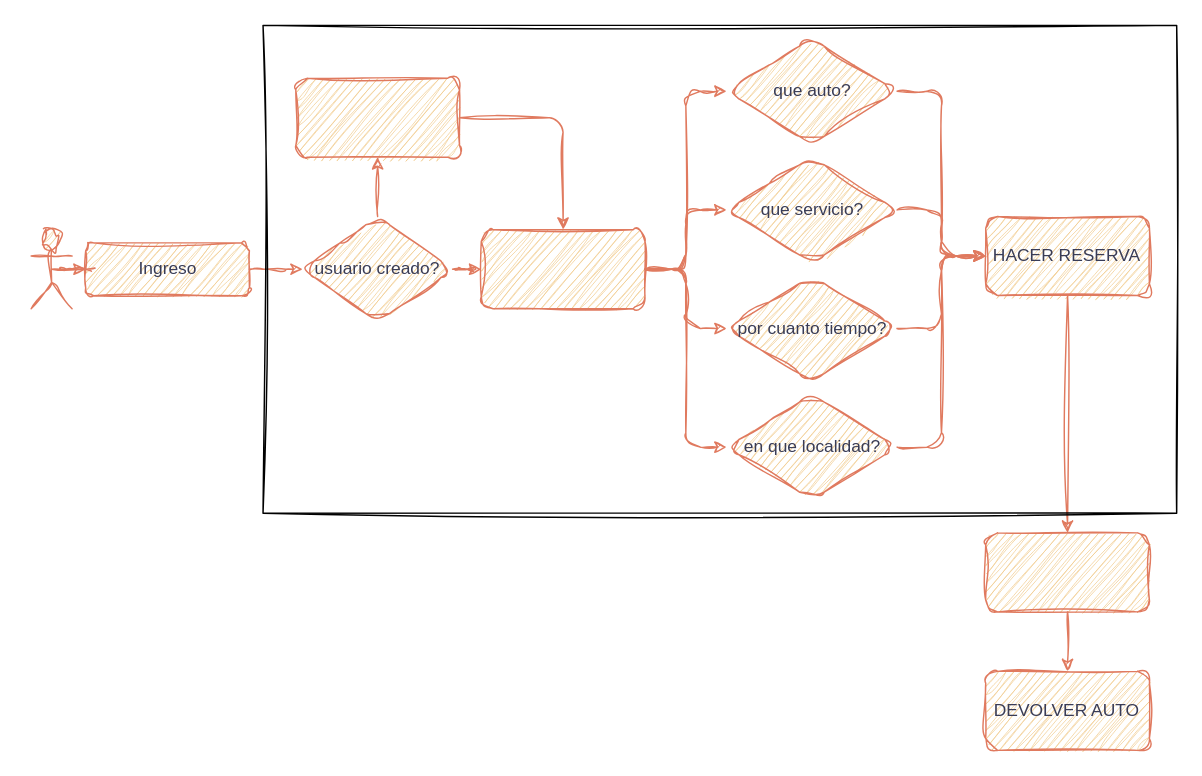
This 1202x776 diagram has some shape labels left out. Each missing label, with the box of its shape:
Cliente: (30, 228, 72, 309)
CREAR USUARIO: (294, 77, 460, 157)
LOGIN: (480, 228, 645, 309)
RETIRAR AUTO: (984, 531, 1149, 612)
